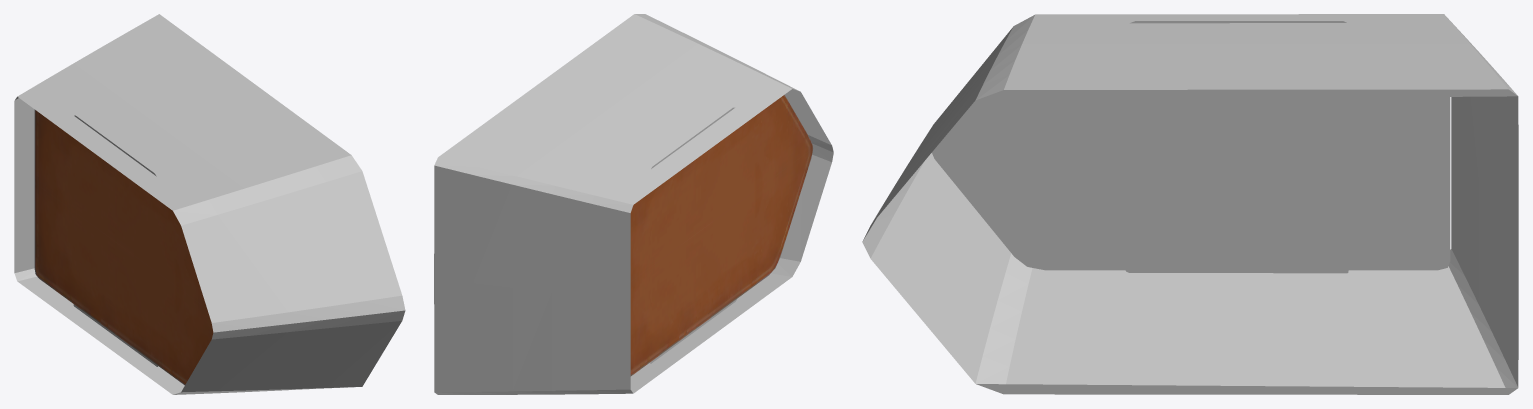
Rendered from pref_fx_jump_scan_01_orange.fbx.
3 views of the same model, side by side, from view 1: azimuth 30°, elevation 25°; view 2: azimuth 150°, elevation 25°; view 3: azimuth 270°, elevation 25° (orthographic). The views are drawn at different scales.
Visible parts, largest first — view 1: all, 2 (2); view 2: all, 2 (2); view 3: all, 2 (1), 2 (2).
Part boxes in pixels (box(x1,y1,x2,y2)): all: box(14, 14, 405, 394); 2 (2): box(73, 115, 158, 366); all: box(434, 14, 833, 394); 2 (2): box(650, 107, 736, 363); all: box(862, 14, 1518, 394); 2 (1): box(932, 97, 1450, 270); 2 (2): box(1075, 21, 1348, 273).
Bounding box in the file's own units: 1 × 1.34 × 2.61.
